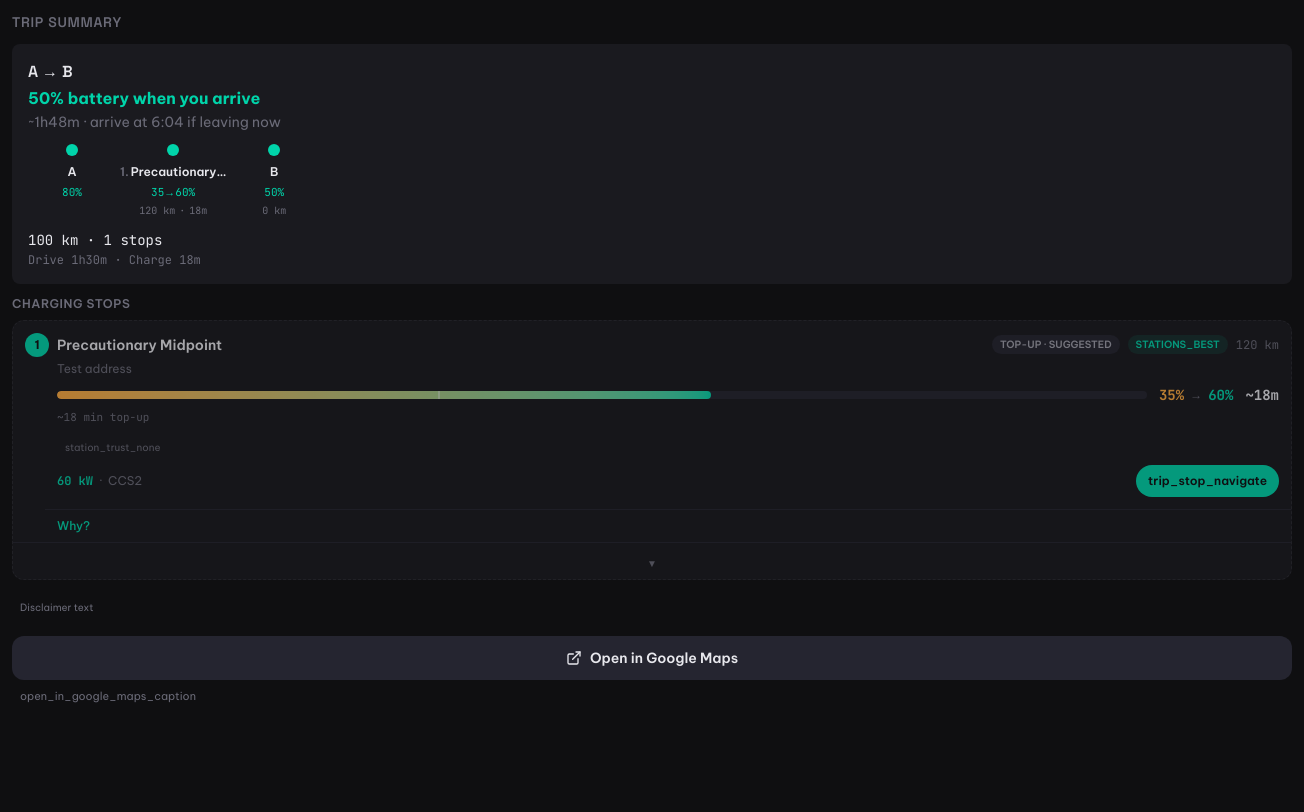
TripSummary — precautionary stops › reveals the peak reason copy
The width and height of the screenshot is (1304, 812).
What coordinates should you click on to do the following:
click the button "Why?"
I would click on:
 (74, 526)
Its box is [57,518,90,534].
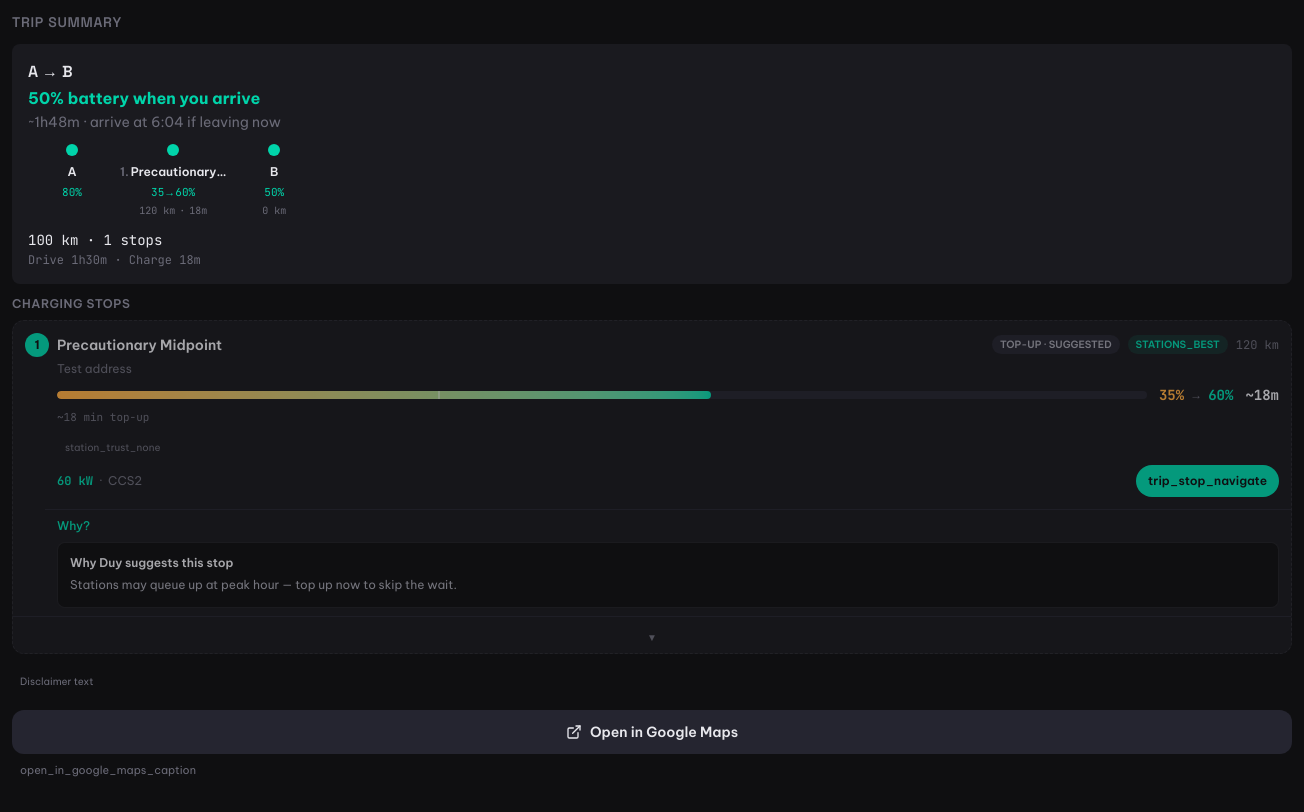
Check: the text "Why Duy suggests this stop" is shown, box [70,555,233,570]
Check: the text "Stations may queue up at peak hour — top up now to skip the wait." is shown, box [70,577,457,592]
